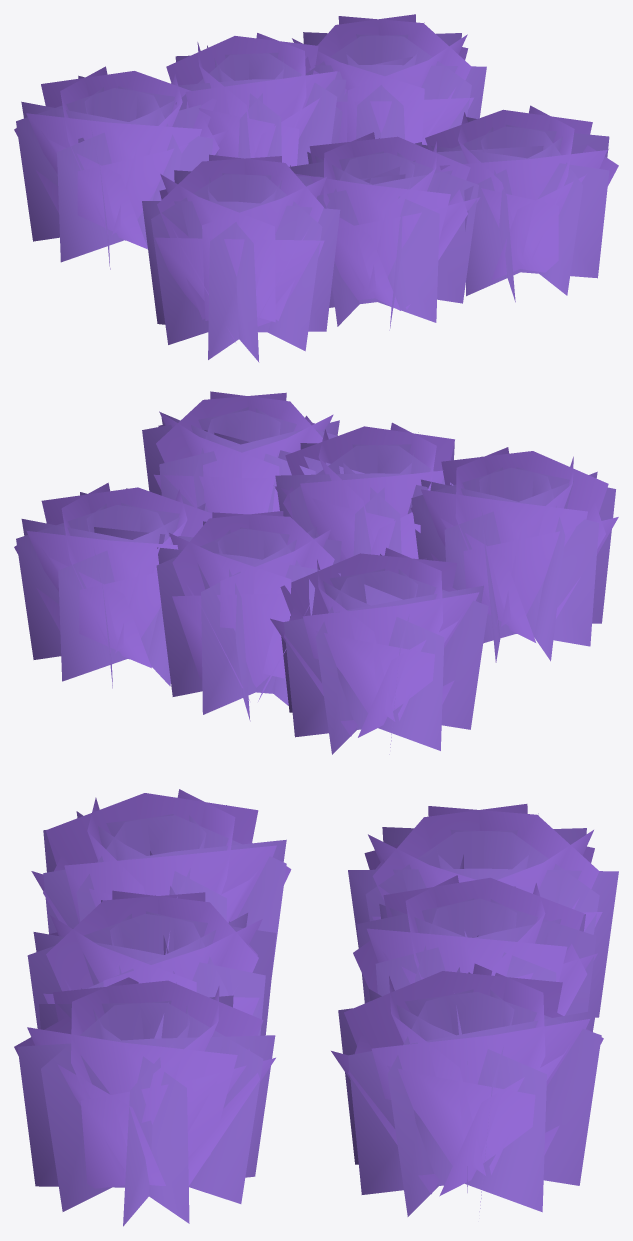
File: bne_lavender_row.dae
3 views of the same model, one above another, from view 1: azimuth 30°, elevation 25°; view 2: azimuth 150°, elevation 25°; view 3: azimuth 270°, elevation 25° (orthographic). The views are drawn at different scales.
Parts seen in each view (by area): view 1: bne_lavender_row; view 2: bne_lavender_row; view 3: bne_lavender_row.
Part boxes in pixels (left/top/right/bottom): bne_lavender_row: left=14, top=14, right=618, bottom=362; bne_lavender_row: left=14, top=391, right=618, bottom=754; bne_lavender_row: left=14, top=789, right=618, bottom=1226.
Bounding box in the file's own units: 2.78 × 2.55 × 0.8818.
